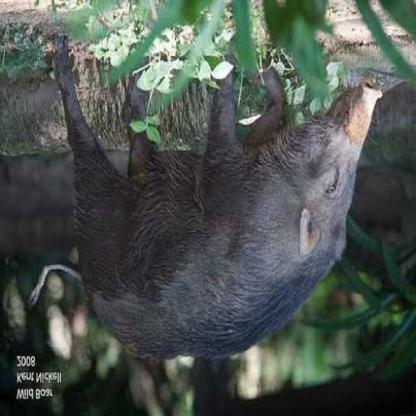boar: (81, 72, 390, 372)
